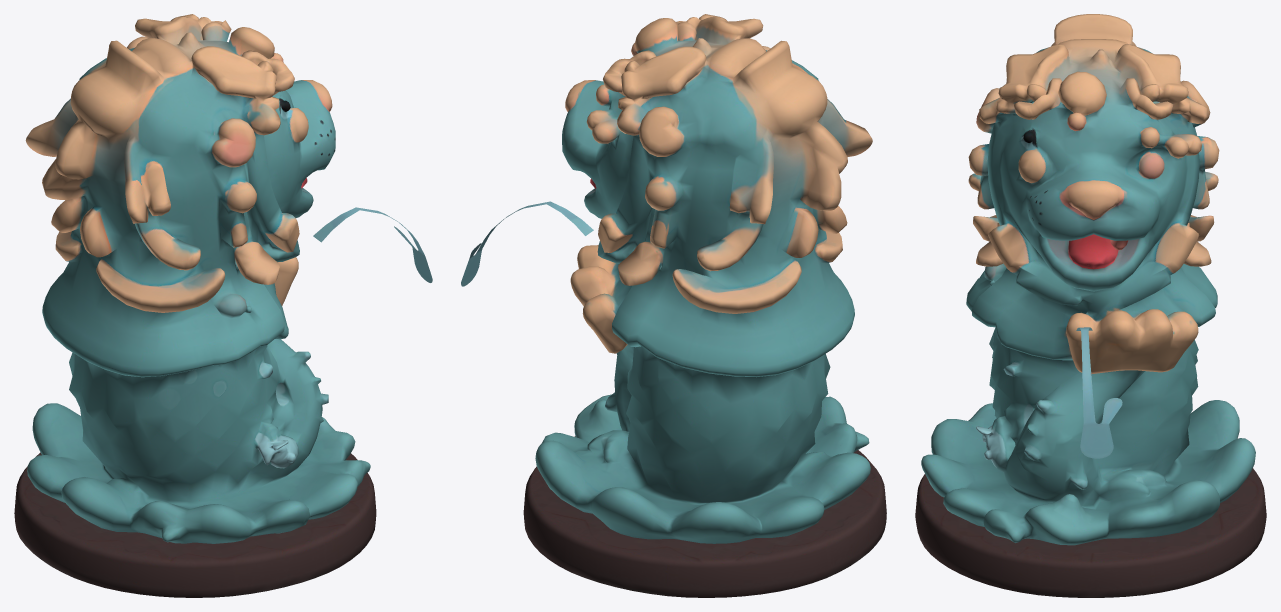
The model's file is sing-envi-2.glb.
The picture shows the model from 3 angles, left to right: view 1: azimuth 30°, elevation 25°; view 2: azimuth 150°, elevation 25°; view 3: azimuth 270°, elevation 25°; orthographic projection. The views are drawn at different scales.
Parts seen in each view (by area): view 1: tripo_node_bb5f92d1-ae18-42e8-ac66-4f4ac417c7ff; view 2: tripo_node_bb5f92d1-ae18-42e8-ac66-4f4ac417c7ff; view 3: tripo_node_bb5f92d1-ae18-42e8-ac66-4f4ac417c7ff.
Boxes of the visible parts, x1,y1,x2,y2 form: tripo_node_bb5f92d1-ae18-42e8-ac66-4f4ac417c7ff: (14, 14, 432, 597); tripo_node_bb5f92d1-ae18-42e8-ac66-4f4ac417c7ff: (461, 14, 886, 597); tripo_node_bb5f92d1-ae18-42e8-ac66-4f4ac417c7ff: (915, 14, 1266, 597).
Size of the model in its own units: 0.8335 by 0.9995 by 0.6665.
Materials: 1 (1 with a texture image).
